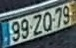7: (53, 6, 62, 29)
9: (10, 20, 20, 42), (20, 17, 29, 39), (62, 4, 70, 25)
Q: (42, 11, 53, 32)
Z: (31, 12, 43, 37)
